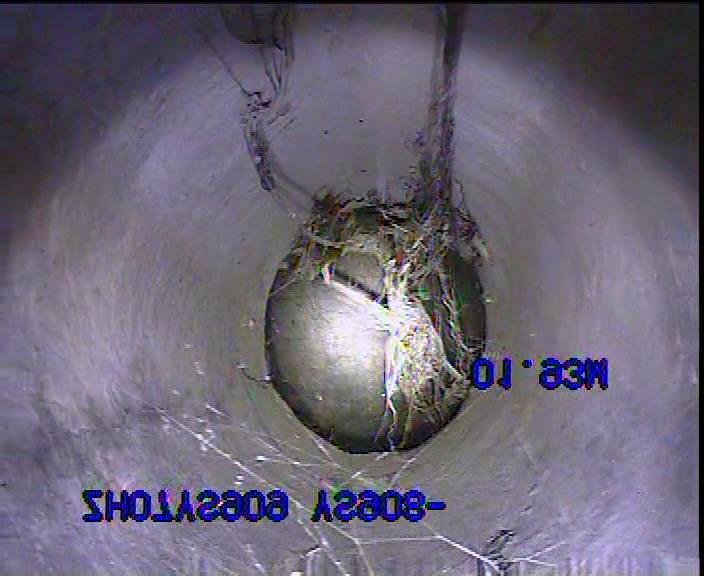SG: (234, 8, 486, 454)
